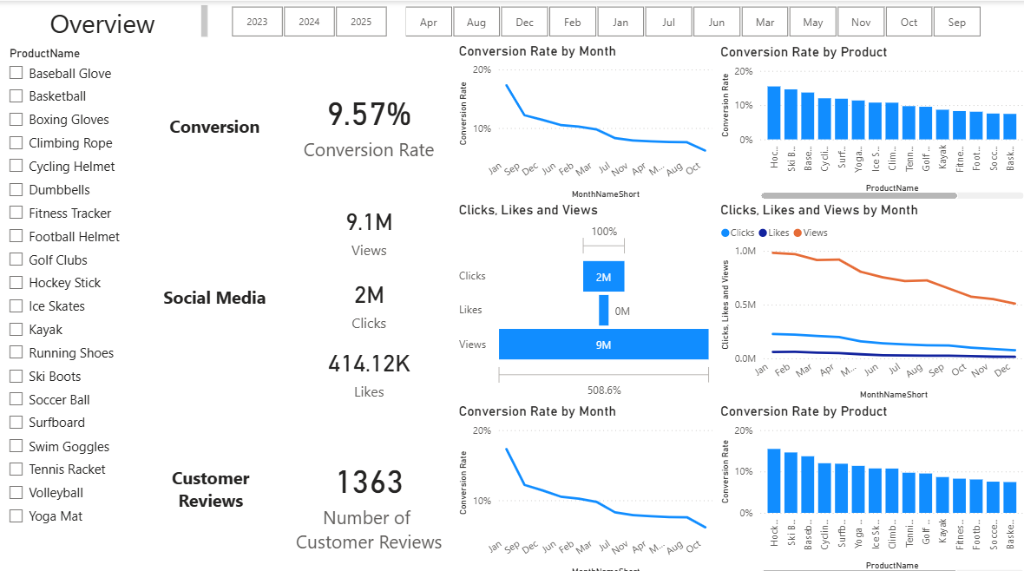

What the dashboard file says about the page in this screenshot:
{"tool":"powerbi","page":{"name":"Overview","canvas":[1280,720],"ordinal":0},"visuals":[{"type":"slicer","fields":{"Values":["Calendar.MonthNameShort"]},"box":[480,0,765.4,51],"z":0},{"type":"textbox","box":[0,0,264.6,51],"z":1000},{"type":"slicer","fields":{"Values":["products.ProductName"]},"box":[0,51,183.3,669],"z":2000},{"type":"textbox","box":[183.3,45.4,170.1,204.1],"z":3000},{"type":"textbox","box":[173.9,500.8,179.5,219.2],"z":4000},{"type":"textbox","box":[183.3,240,170.1,260.8],"z":5000},{"type":"card","fields":{"Values":["_Calculations.Conversion Rate"]},"box":[353.4,51,213.5,198.4],"z":6000},{"type":"card","fields":{"Values":["_Calculations.Views"]},"box":[353.4,240,213.5,88.8],"z":7000},{"type":"card","fields":{"Values":["_Calculations.Clicks"]},"box":[353.4,328.8,213.5,92.6],"z":8000},{"type":"card","fields":{"Values":["_Calculations.Likes"]},"box":[353.4,421.4,213.5,79.4],"z":9000},{"type":"card","fields":{"Values":["_Calculations.Number of Customer Reviews"]},"box":[353,498.7,213.7,220.2],"z":10000},{"type":"slicer","fields":{"Values":["Calendar.Year"]},"box":[264.6,0,241.9,51],"z":11000},{"type":"lineChart","title":"Conversion Rate by Month","fields":{"Category":["Calendar.MonthNameShort"],"Y":["_Calculations.Conversion Rate"]},"box":[566.9,51,325,198.4],"z":12000},{"type":"columnChart","title":"Conversion Rate by Product","fields":{"Y":["_Calculations.Conversion Rate"],"Category":["products.ProductName"]},"box":[892.2,53.4,387,197.5],"z":13000},{"type":"lineChart","title":"Clicks, Likes and Views by Month","fields":{"Category":["Calendar.MonthNameShort"],"Y":["_Calculations.Clicks","_Calculations.Likes","_Calculations.Views"]},"box":[892.2,249.4,387,251],"z":14000},{"type":"funnel","fields":{"Y":["_Calculations.Clicks","_Calculations.Likes","_Calculations.Views"]},"box":[566.7,249.4,325.5,251],"z":15000},{"type":"lineChart","title":"Conversion Rate by Month","fields":{"Category":["Calendar.MonthNameShort"],"Y":["_Calculations.Conversion Rate"]},"box":[566.7,500.3,325.5,220.2],"z":16000},{"type":"columnChart","title":"Conversion Rate by Product","fields":{"Y":["_Calculations.Conversion Rate"],"Category":["products.ProductName"]},"box":[892.2,500.3,387,220.2],"z":17000}]}

Visuals, with their boxes in screenshot pixels (x1, y1, x2, y2), scaled from the page's 1280x720 canvas onto the 1024x571 screenshot:
slicer - Calendar.MonthNameShort: (x1=384, y1=0, x2=996, y2=40)
textbox: (x1=0, y1=0, x2=212, y2=40)
slicer - products.ProductName: (x1=0, y1=40, x2=147, y2=570)
textbox: (x1=147, y1=36, x2=283, y2=198)
textbox: (x1=139, y1=397, x2=283, y2=570)
textbox: (x1=147, y1=190, x2=283, y2=397)
card - _Calculations.Conversion Rate: (x1=283, y1=40, x2=454, y2=198)
card - _Calculations.Views: (x1=283, y1=190, x2=454, y2=261)
card - _Calculations.Clicks: (x1=283, y1=261, x2=454, y2=334)
card - _Calculations.Likes: (x1=283, y1=334, x2=454, y2=397)
card - _Calculations.Number of Customer Reviews: (x1=282, y1=395, x2=453, y2=570)
slicer - Calendar.Year: (x1=212, y1=0, x2=405, y2=40)
"Conversion Rate by Month" lineChart: (x1=454, y1=40, x2=714, y2=198)
"Conversion Rate by Product" columnChart: (x1=714, y1=42, x2=1023, y2=199)
"Clicks, Likes and Views by Month" lineChart: (x1=714, y1=198, x2=1023, y2=397)
funnel - _Calculations.Clicks x _Calculations.Likes: (x1=453, y1=198, x2=714, y2=397)
"Conversion Rate by Month" lineChart: (x1=453, y1=397, x2=714, y2=570)
"Conversion Rate by Product" columnChart: (x1=714, y1=397, x2=1023, y2=570)
